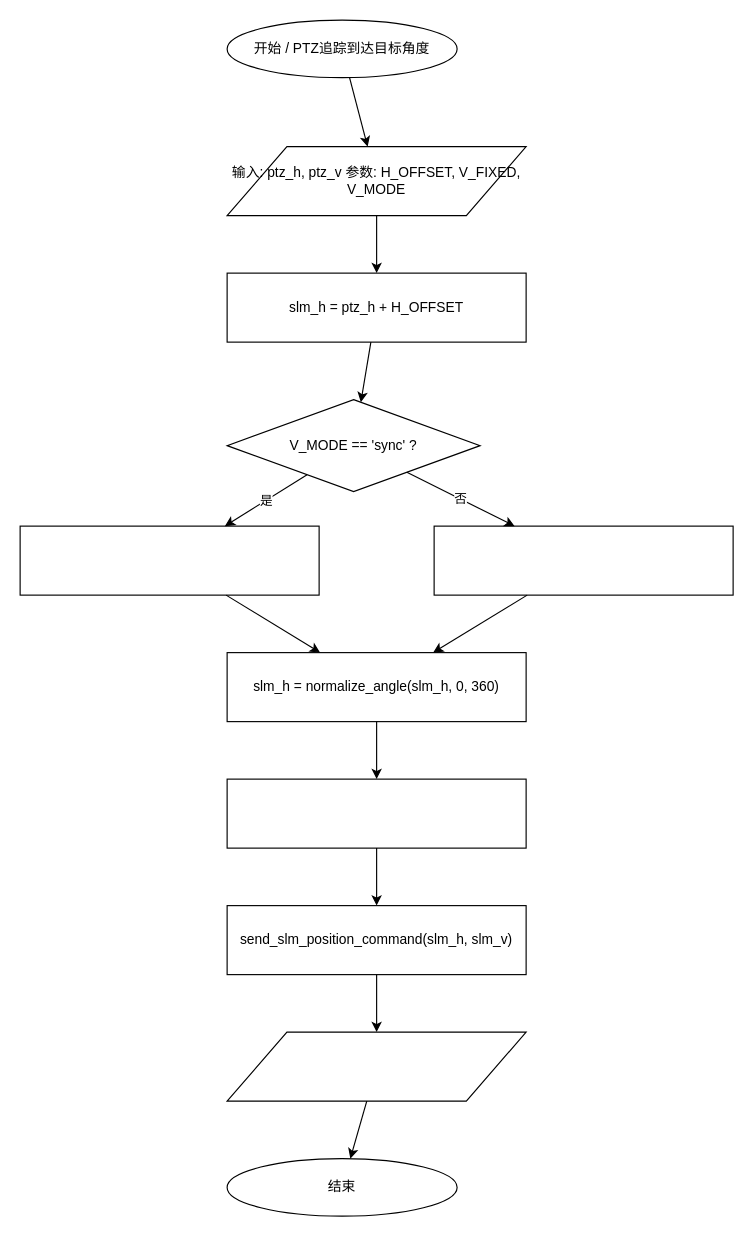
Some shapes in this 753 by 1236 pixel diagram are drawn without their labels. Here are the shapes that lost their labels. From the top down, the centre of each, then its label:
the point at 169,560: slm_v = ptz_v 俯仰跟随PTZ
the point at 583,560: slm_v = V_FIXED 固定仰角(默认20°)
the point at 376,813: slm_v = clamp(slm_v, 0, 90)
the point at 376,1066: 输出: 消防炮到达(slm_h, slm_v)
